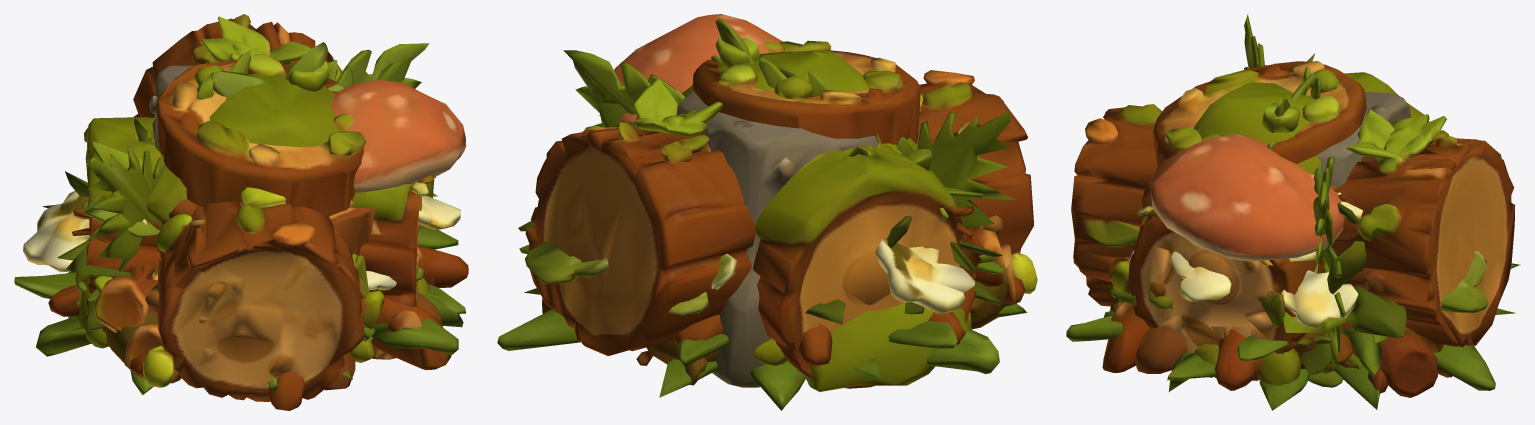
File: floresta-1.glb
3 views of the same model, side by side, from view 1: azimuth 30°, elevation 25°; view 2: azimuth 150°, elevation 25°; view 3: azimuth 270°, elevation 25° (orthographic). The views are drawn at different scales.
Parts seen in each view (by area): view 1: tronco_caido, toco_raizes, galho_cogumelo, moita_flores, tronco_musgo, arco_raiz, samambaia_fruto, samambaia, toco_cortado, moita_folhas, ouricos_castanha, pedra_capim; view 2: tronco_caido, tronco_musgo, moita_flores, toco_raizes, pedra_capim, arco_raiz, samambaia_fruto, galho_cogumelo, samambaia, ouricos_castanha, moita_folhas, toco_cortado; view 3: tronco_caido, galho_cogumelo, moita_flores, toco_raizes, tronco_musgo, arco_raiz, moita_folhas, pedra_capim, toco_cortado, samambaia, samambaia_fruto, ouricos_castanha.
Part boxes in pixels (x1,y1,x2,y2): tronco_caido: [133, 14, 384, 401]; toco_raizes: [48, 54, 468, 410]; galho_cogumelo: [94, 79, 466, 383]; moita_flores: [14, 177, 465, 395]; tronco_musgo: [72, 117, 434, 321]; arco_raiz: [68, 74, 430, 359]; samambaia_fruto: [86, 43, 429, 303]; samambaia: [57, 42, 410, 306]; toco_cortado: [76, 199, 441, 390]; moita_folhas: [65, 118, 437, 330]; ouricos_castanha: [93, 247, 422, 378]; pedra_capim: [149, 65, 194, 148]; tronco_caido: [525, 70, 1037, 356]; tronco_musgo: [753, 144, 984, 388]; moita_flores: [497, 237, 1027, 410]; toco_raizes: [692, 37, 1025, 366]; pedra_capim: [676, 90, 878, 387]; arco_raiz: [682, 50, 971, 391]; samambaia_fruto: [563, 50, 1015, 273]; galho_cogumelo: [542, 14, 1016, 313]; samambaia: [573, 18, 975, 315]; ouricos_castanha: [554, 215, 1010, 385]; moita_folhas: [518, 120, 1002, 314]; toco_cortado: [674, 314, 723, 345]; tronco_caido: [1071, 104, 1515, 347]; galho_cogumelo: [1150, 134, 1437, 397]; moita_flores: [1066, 192, 1520, 410]; toco_raizes: [1102, 61, 1388, 390]; tronco_musgo: [1128, 72, 1429, 380]; arco_raiz: [1155, 82, 1339, 386]; moita_folhas: [1282, 203, 1407, 375]; pedra_capim: [1308, 92, 1410, 387]; toco_cortado: [1110, 181, 1352, 375]; samambaia: [1267, 53, 1345, 365]; samambaia_fruto: [1244, 14, 1334, 273]; ouricos_castanha: [1109, 194, 1452, 393].
Size of the model in its own units: 0.3391 by 0.21 by 0.3301.
1 material, 1 textured.
